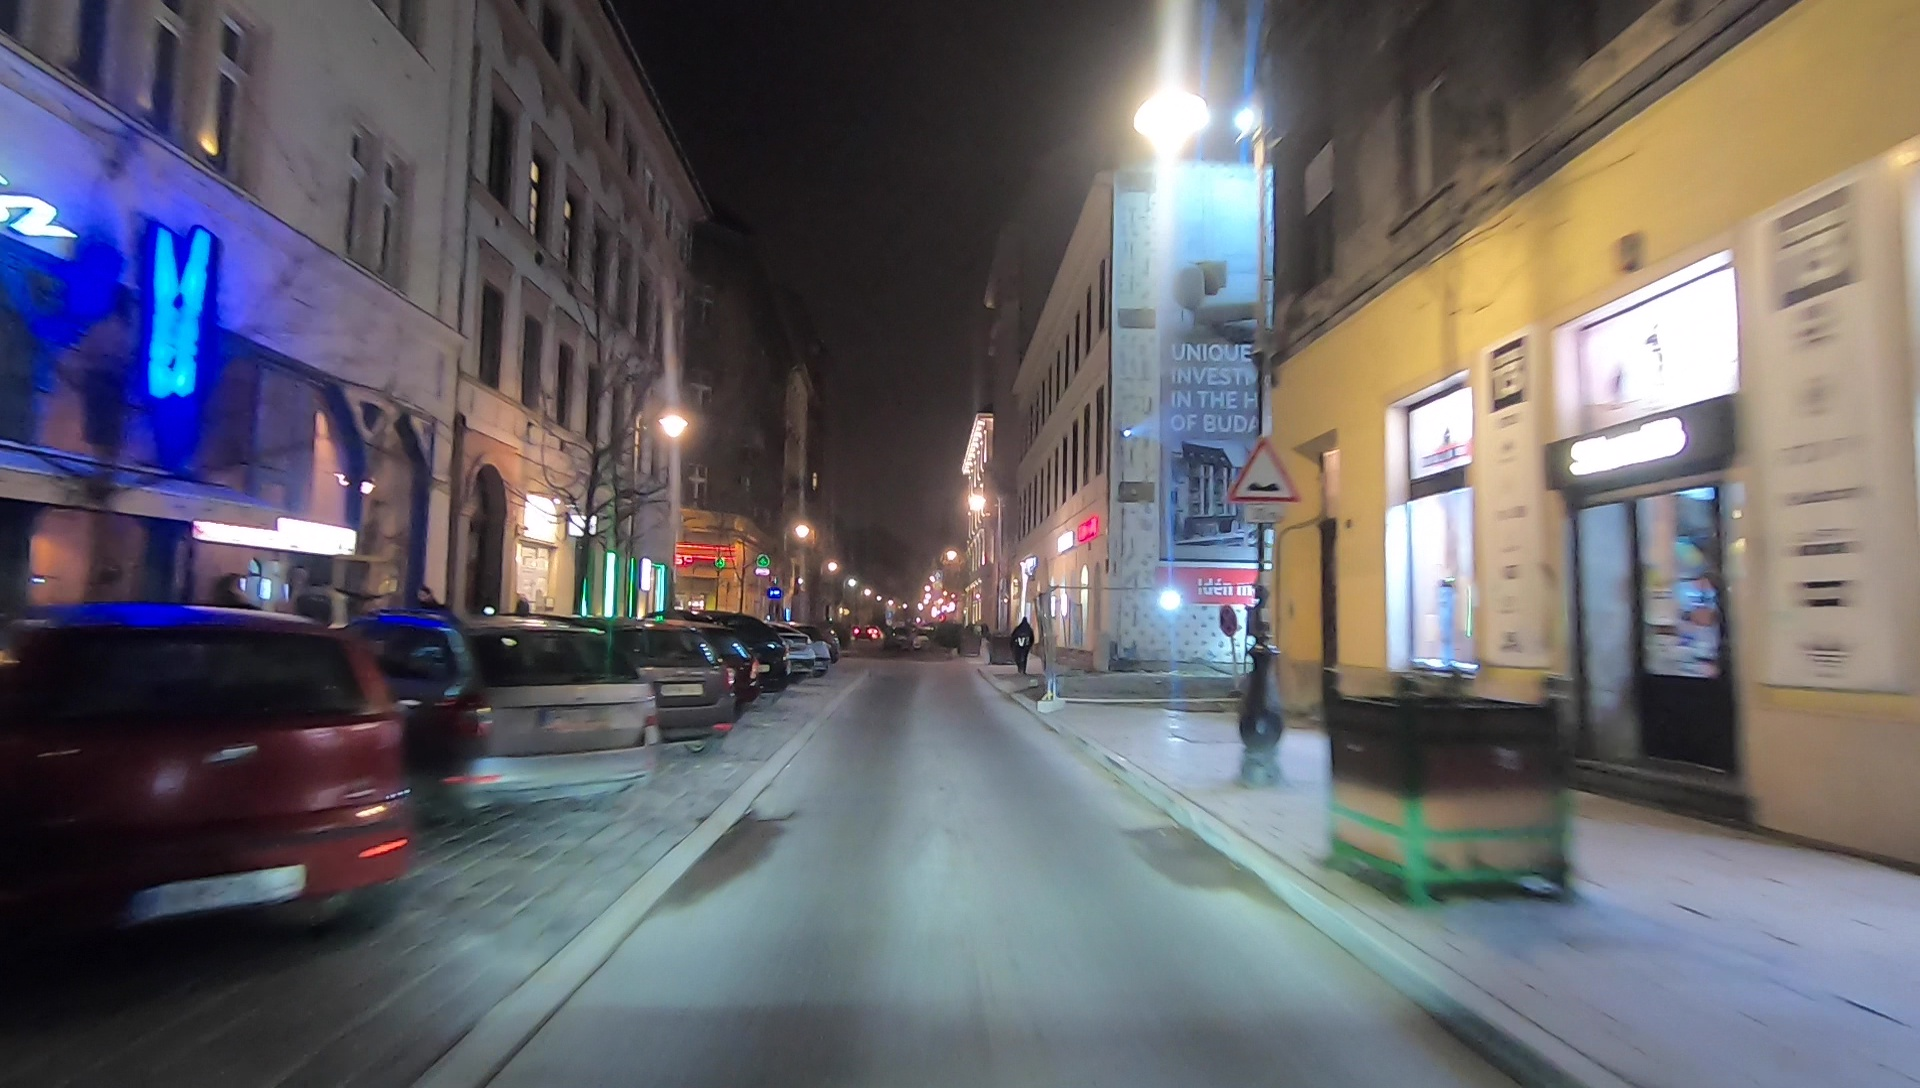person: (1010, 615, 1034, 676)
